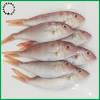Ikan Kerisi: (5, 21, 74, 44), (8, 40, 77, 62), (9, 59, 74, 78)
